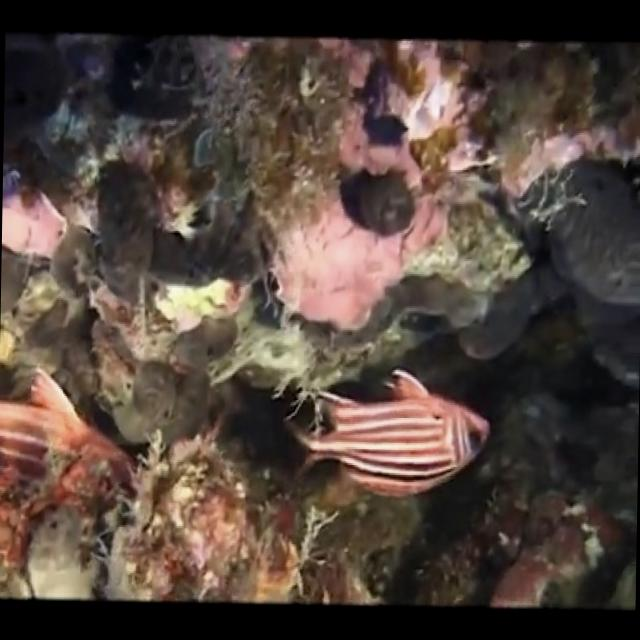Asker Baligi: (286, 363, 492, 502)
